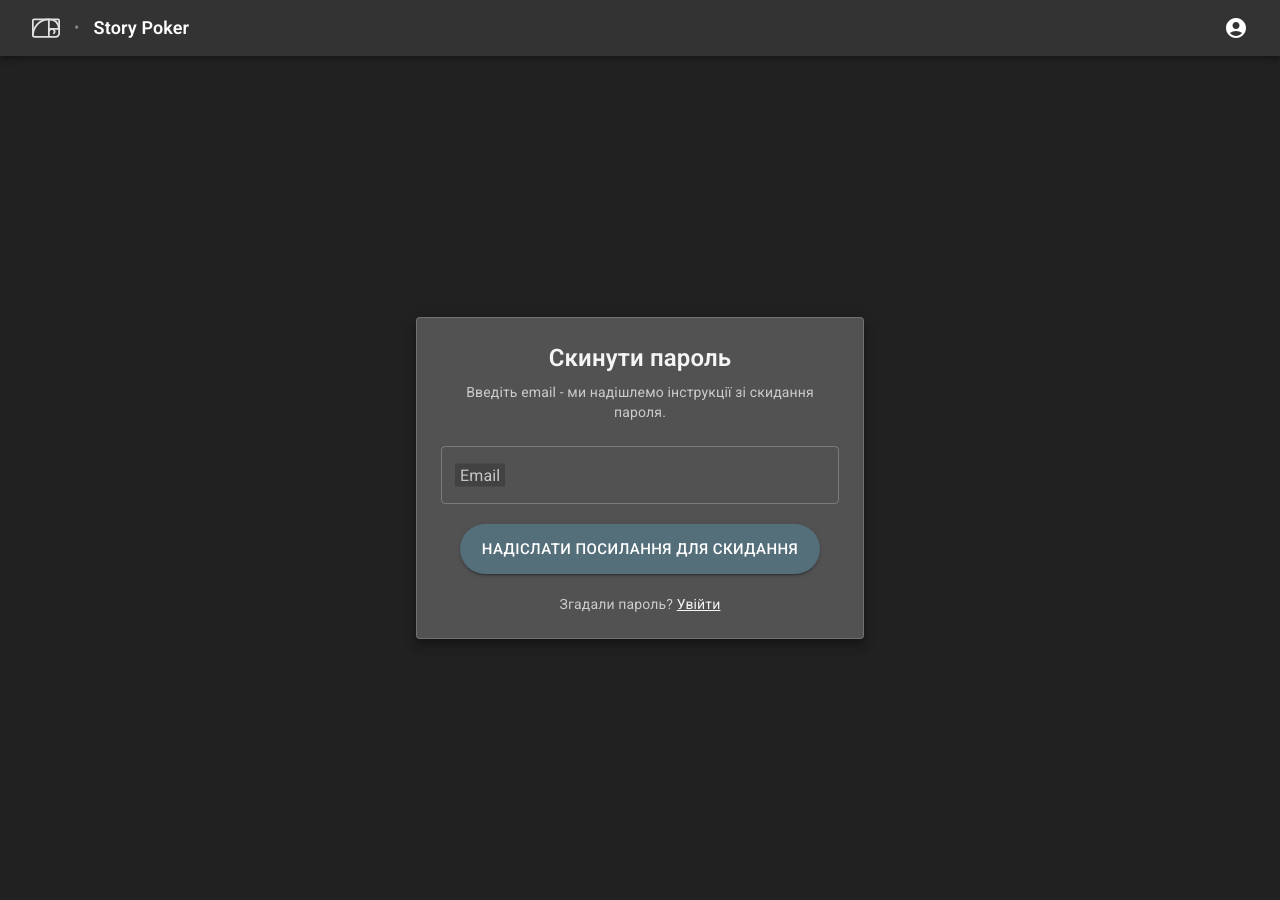
Test: forgot password page › requests a reset link pointing at /reset-password
In the field with id "forgot-email": [640, 475] box [441,446,839,504], type "a@b.co"
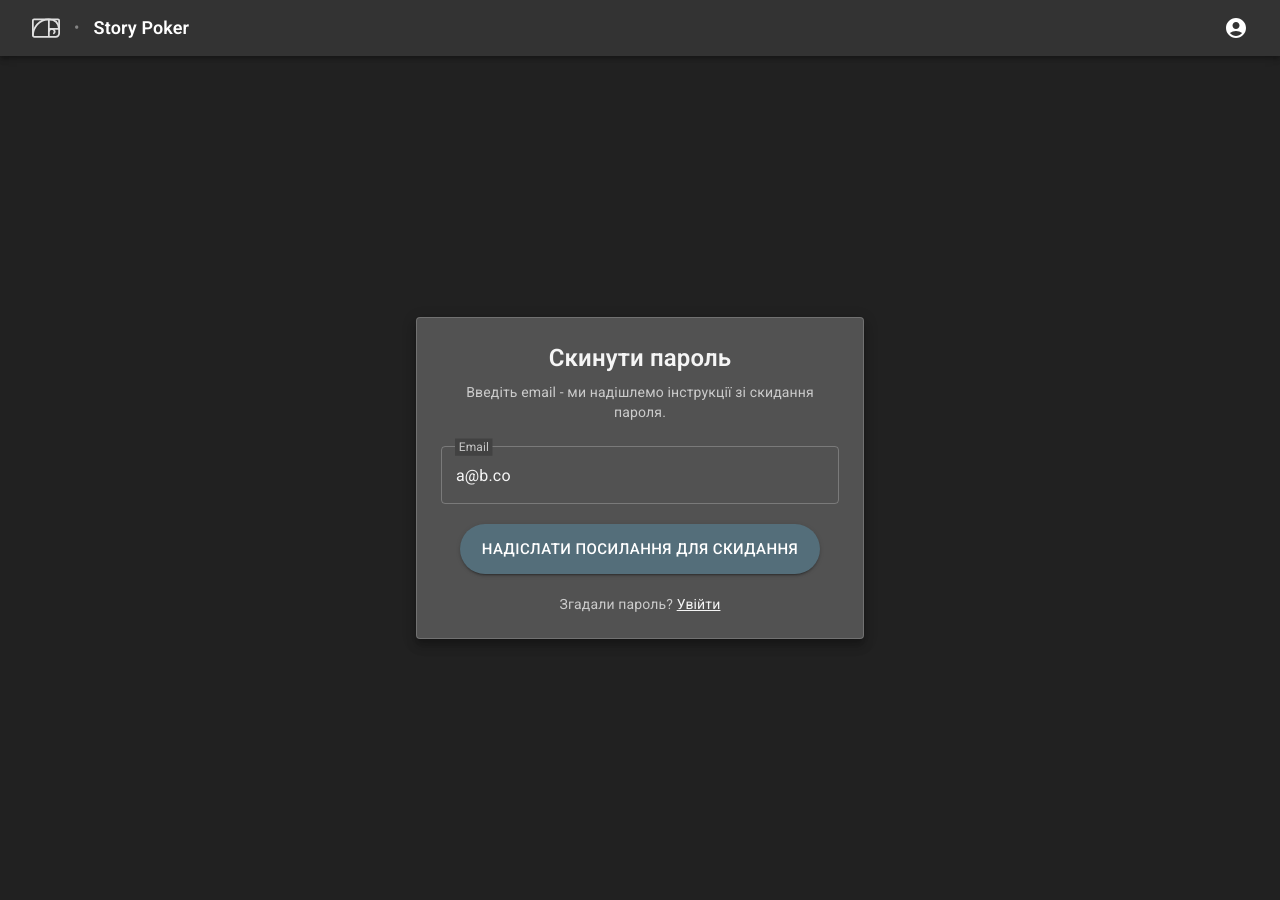
Click the button "Надіслати посилання для скидання": [640, 549] box [460,524,820,574]
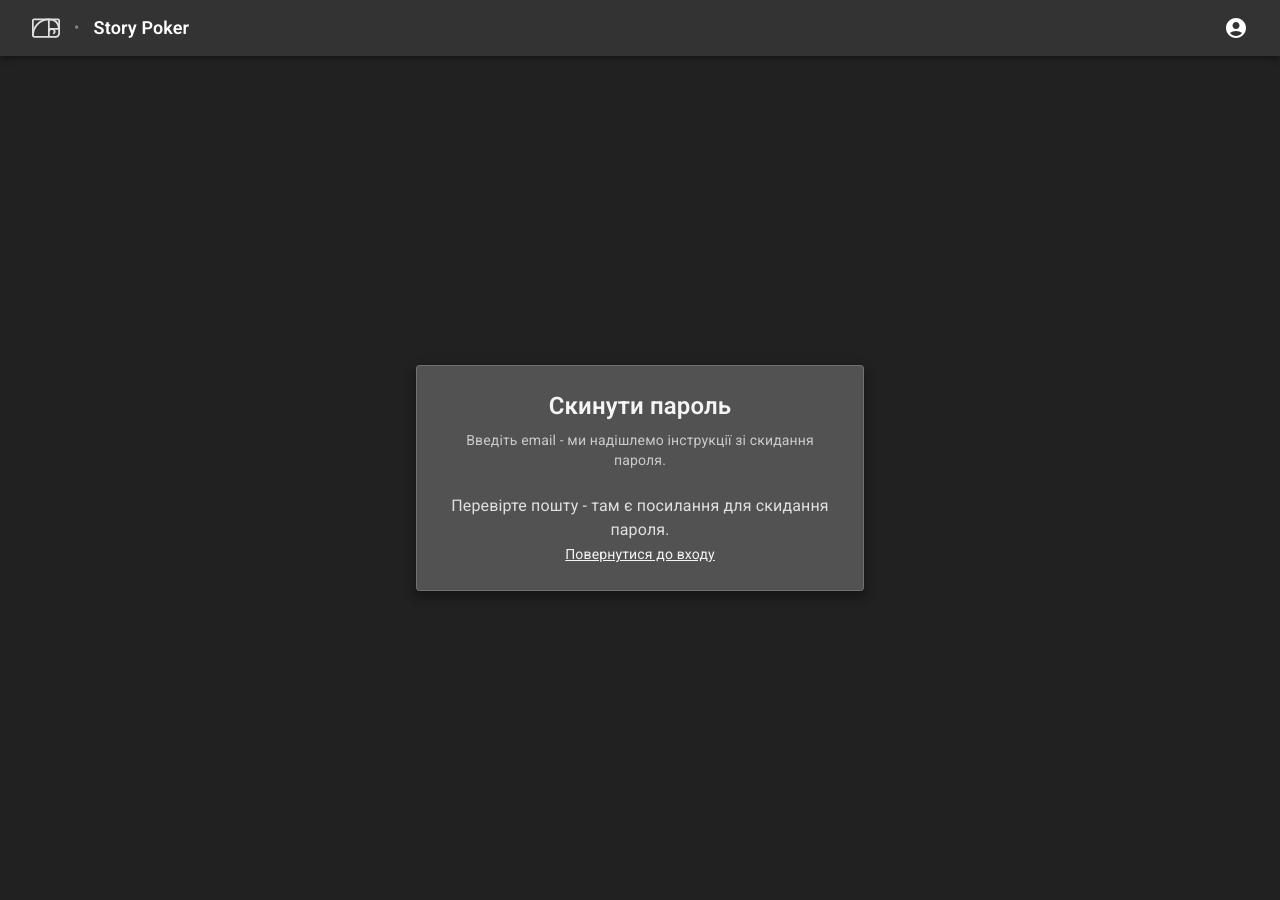
Expected: the text "Перевірте пошту - там є посилання для скидання пароля." is shown, [441,494,839,542]
